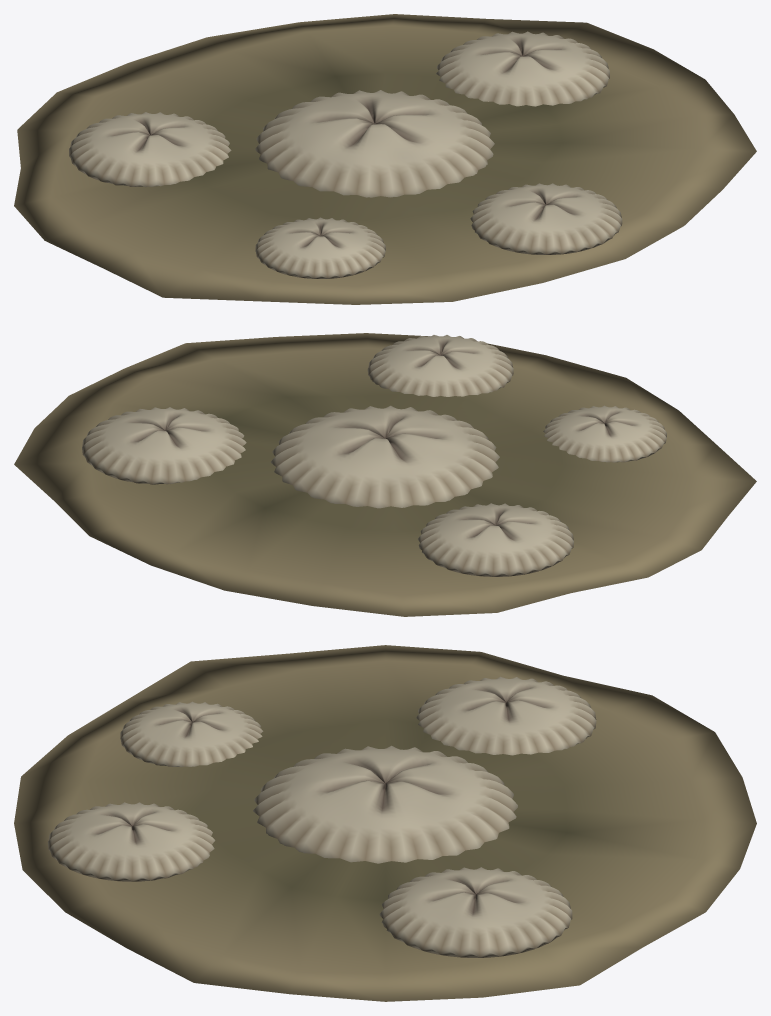
File: Arkarua.fbx
The picture shows the model from 3 angles, top to bottom: view 1: azimuth 30°, elevation 25°; view 2: azimuth 150°, elevation 25°; view 3: azimuth 270°, elevation 25°; orthographic projection. The views are drawn at different scales.
Parts seen in each view (by area): view 1: Arkarua; view 2: Arkarua; view 3: Arkarua.
Boxes of the visible parts, box(x1,y1,x2,y2) form: Arkarua: box(14, 14, 756, 304); Arkarua: box(14, 333, 756, 616); Arkarua: box(14, 645, 756, 1001).
Bounding box in the file's own units: 1.4 × 0.0867 × 1.23.
